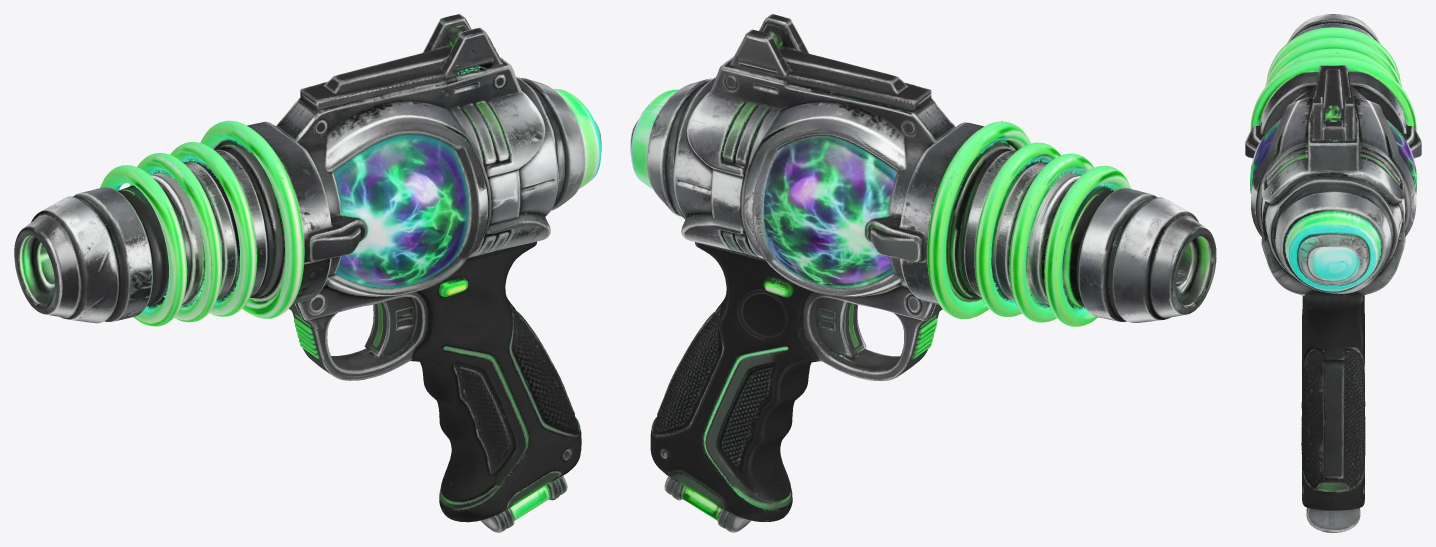
The model's file is raygun.glb.
3 renders of one model, left to right at view 1: azimuth 30°, elevation 25°; view 2: azimuth 150°, elevation 25°; view 3: azimuth 270°, elevation 25°, orthographic. The views are drawn at different scales.
Parts seen in each view (by area): view 1: Mesh1.0; view 2: Mesh1.0; view 3: Mesh1.0.
Boxes of the visible parts, x1,y1,x2,y2 form: Mesh1.0: (14,14,601,532); Mesh1.0: (630,14,1216,532); Mesh1.0: (1245,14,1421,532).
Bounding box in the file's own units: 1.91 × 1.69 × 0.6508.
Materials: 1 (1 with a texture image).
